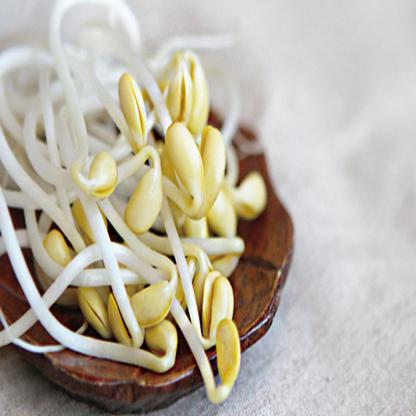bean sprouts: (22, 43, 262, 399)
